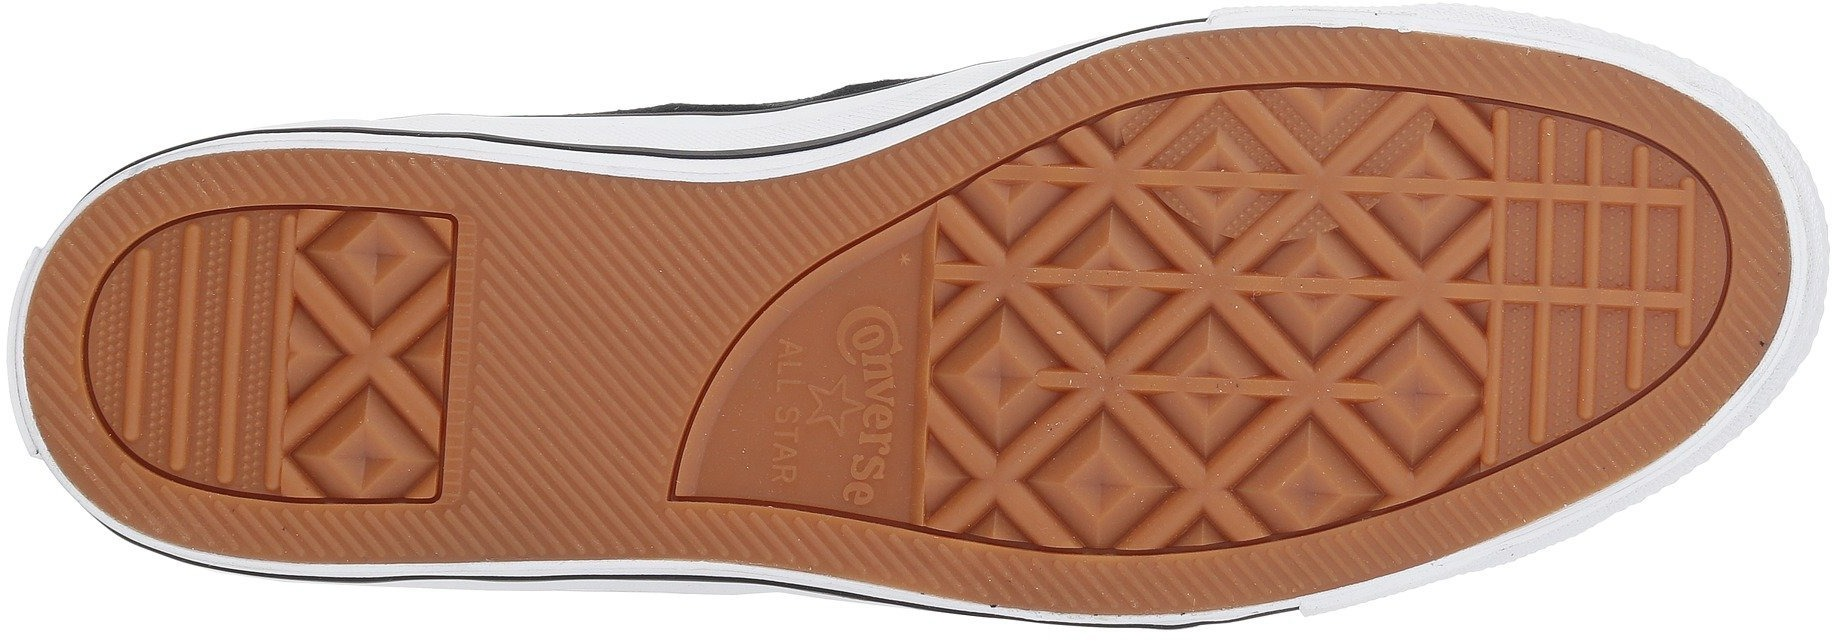chevron: (946, 134, 1342, 522)
circle: (729, 277, 920, 522)
line: (946, 134, 1342, 522), (1452, 70, 1746, 361), (483, 205, 706, 419), (729, 277, 920, 522), (113, 224, 272, 465)
quad: (921, 74, 1498, 550), (946, 134, 1342, 522), (1452, 70, 1746, 361)
star: (729, 277, 920, 522)
text: (729, 277, 920, 522)
triangle: (946, 134, 1342, 522), (1452, 70, 1746, 361)
